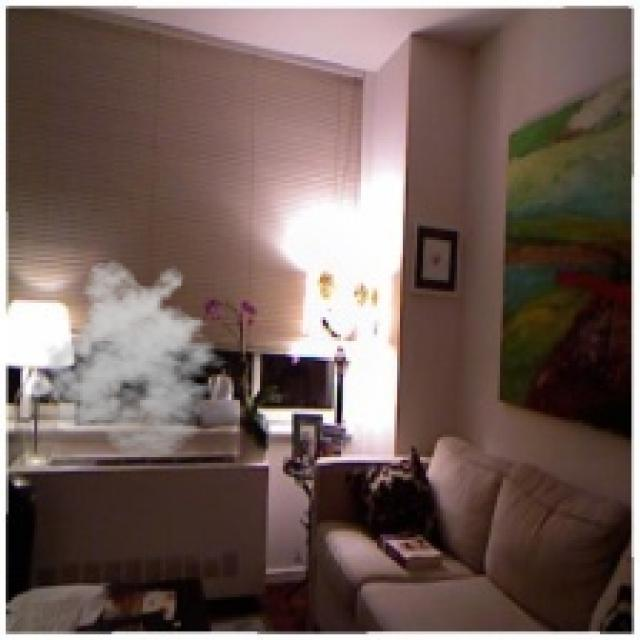smoke: (37, 260, 240, 460)
